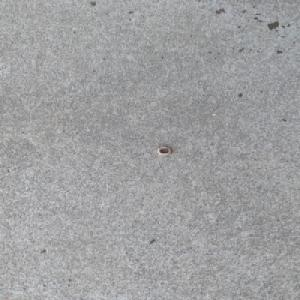Nut: (156, 146, 172, 156)
